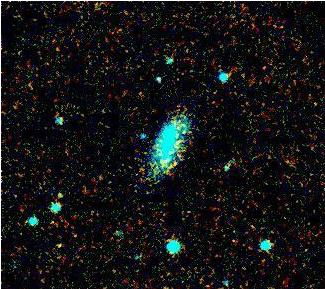star: (164, 150, 194, 180)
